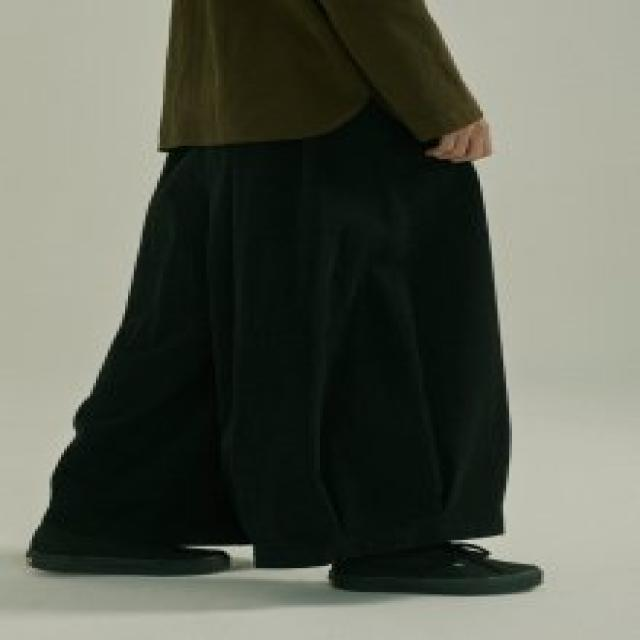long-pants: (42, 122, 511, 553)
